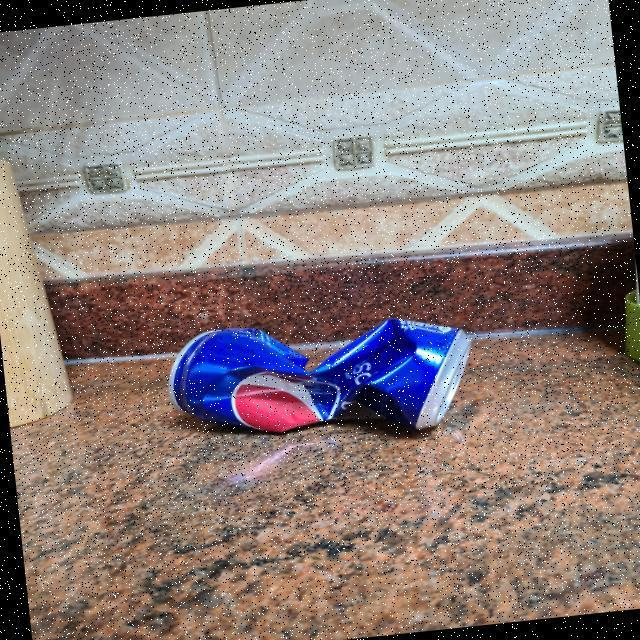can: (154, 300, 492, 454)
